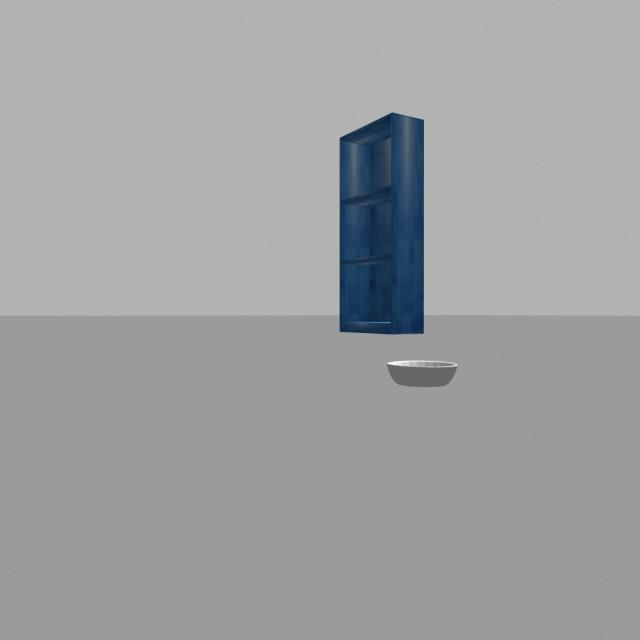bowl: (382, 349, 470, 397)
shelf: (327, 100, 436, 339)
